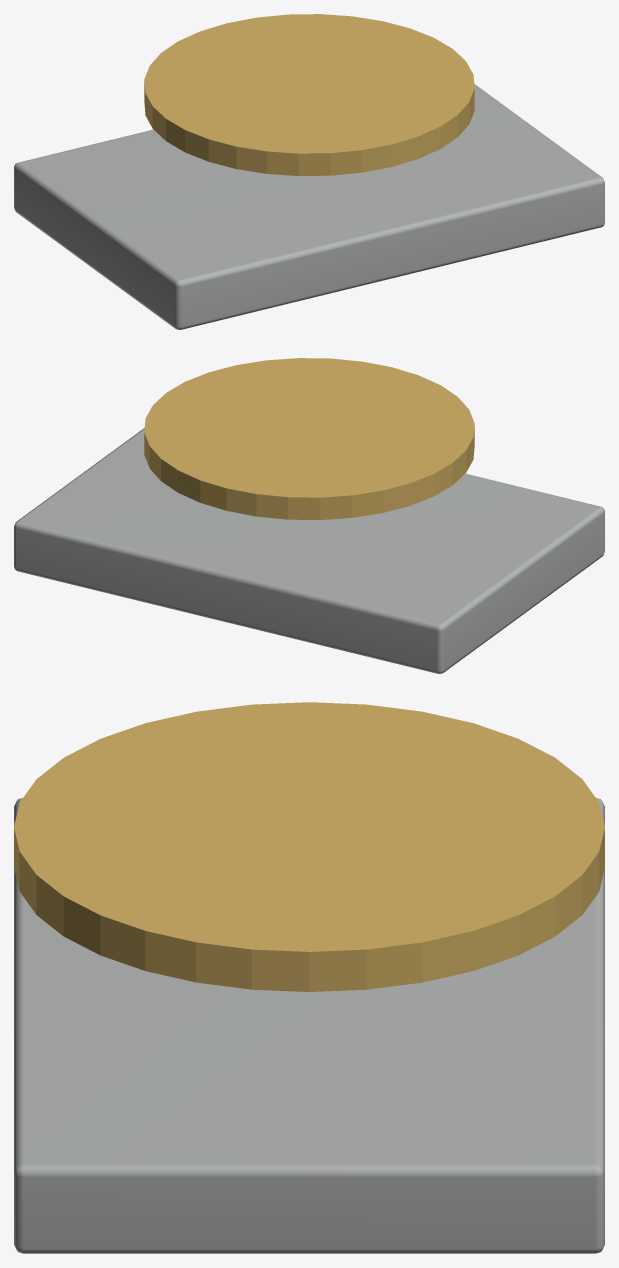
File: hf-zaisan-memorial-study.glb
The picture shows the model from 3 angles, top to bottom: view 1: azimuth 30°, elevation 25°; view 2: azimuth 150°, elevation 25°; view 3: azimuth 270°, elevation 25°; orthographic projection. The views are drawn at different scales.
Visible parts, largest first — view 1: ZAISAN_MEMORIAL_BASE, ZAISAN_MEMORIAL_RING; view 2: ZAISAN_MEMORIAL_BASE, ZAISAN_MEMORIAL_RING; view 3: ZAISAN_MEMORIAL_BASE, ZAISAN_MEMORIAL_RING.
Part boxes in pixels (box(x1,y1,x2,y2)): ZAISAN_MEMORIAL_BASE: box(14, 84, 604, 329); ZAISAN_MEMORIAL_RING: box(144, 14, 474, 175); ZAISAN_MEMORIAL_BASE: box(14, 428, 604, 673); ZAISAN_MEMORIAL_RING: box(144, 358, 474, 519); ZAISAN_MEMORIAL_BASE: box(14, 798, 604, 1253); ZAISAN_MEMORIAL_RING: box(14, 702, 604, 991).
Size of the model in its own units: 18 by 5.45 by 12.
